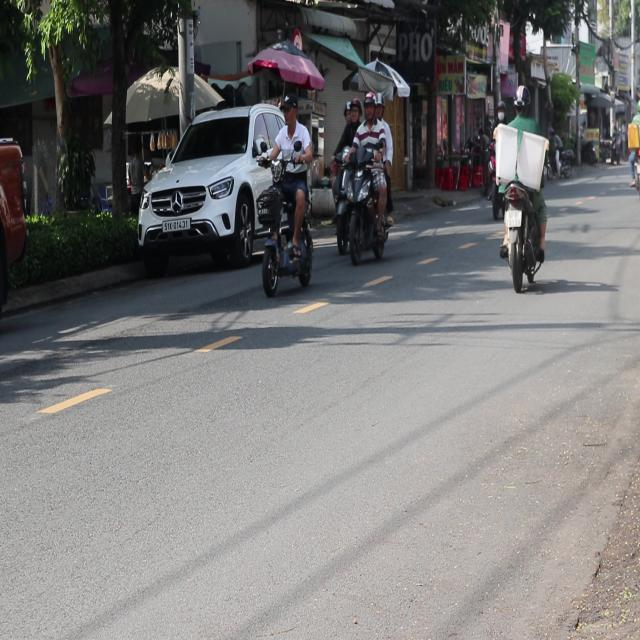helmet: (512, 84, 530, 115), (362, 90, 376, 120), (373, 90, 384, 118)
licenseplate: (253, 92, 320, 293), (492, 82, 550, 290), (338, 89, 396, 265)
motorcyclist: (278, 94, 300, 129)
nohelmet: (505, 209, 521, 227)
